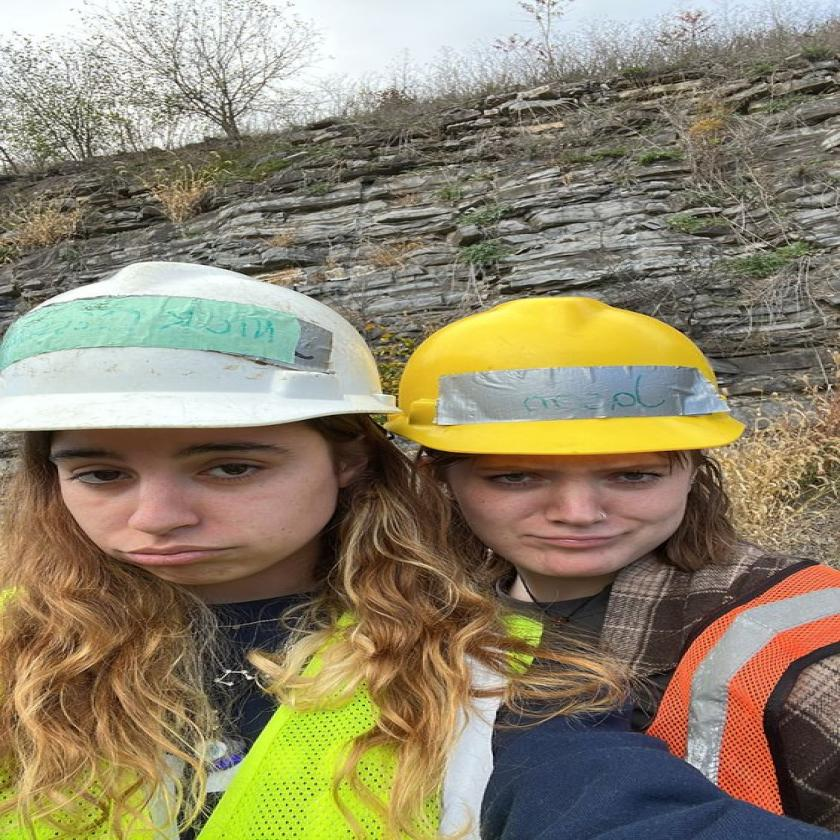Con_casco: (0, 259, 388, 619), (388, 272, 795, 582)
